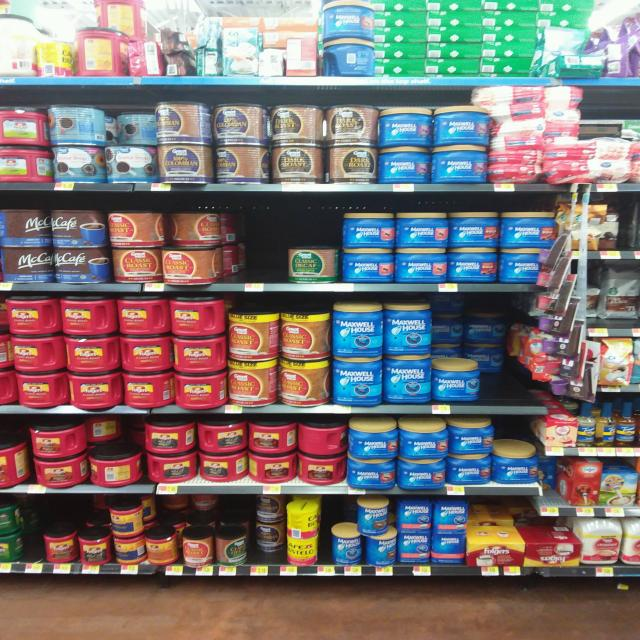unorganised: (254, 496, 289, 555), (471, 314, 505, 373), (83, 413, 142, 446), (436, 293, 464, 357), (168, 211, 222, 243), (114, 112, 157, 145), (360, 497, 388, 536), (535, 445, 557, 492), (190, 490, 223, 514), (153, 493, 190, 510)
